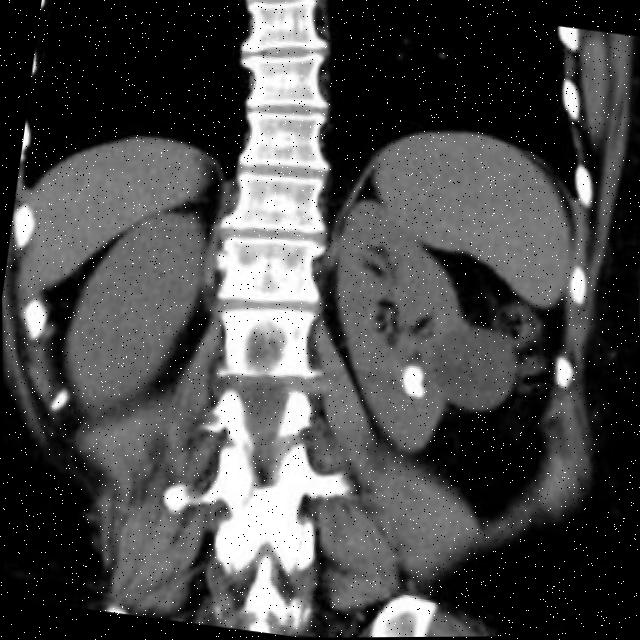Tas_Var: (398, 360, 435, 408)
